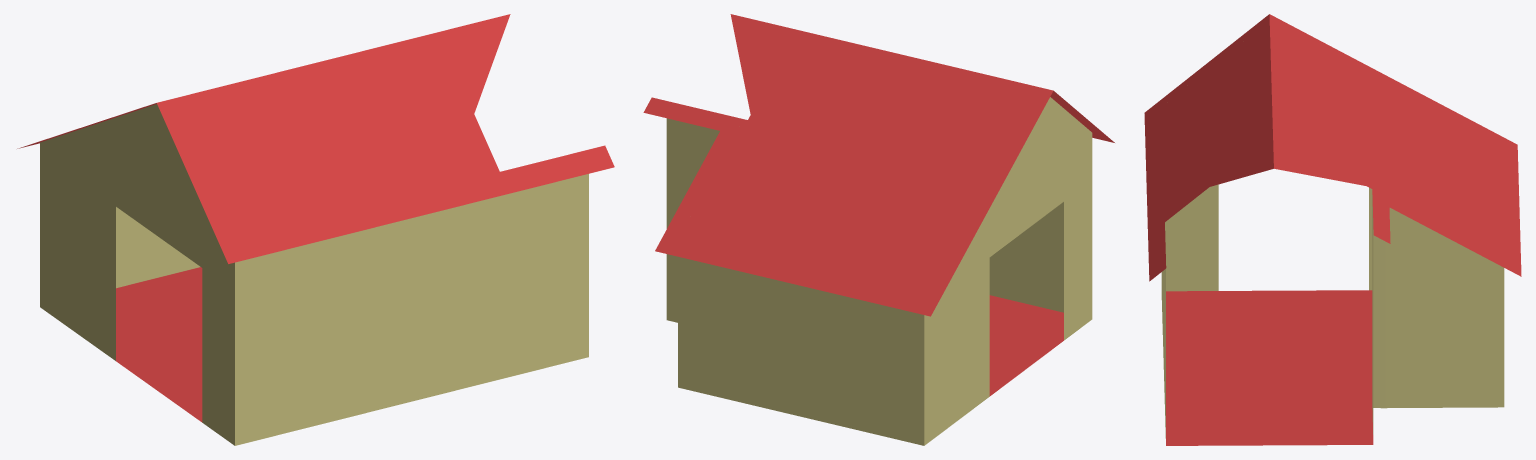
3 views of the same model, side by side, from view 1: azimuth 30°, elevation 25°; view 2: azimuth 150°, elevation 25°; view 3: azimuth 270°, elevation 25° (orthographic). The views are drawn at different scales.
Bounding box in the file's own units: 17.97 × 16.75 × 13.22.
